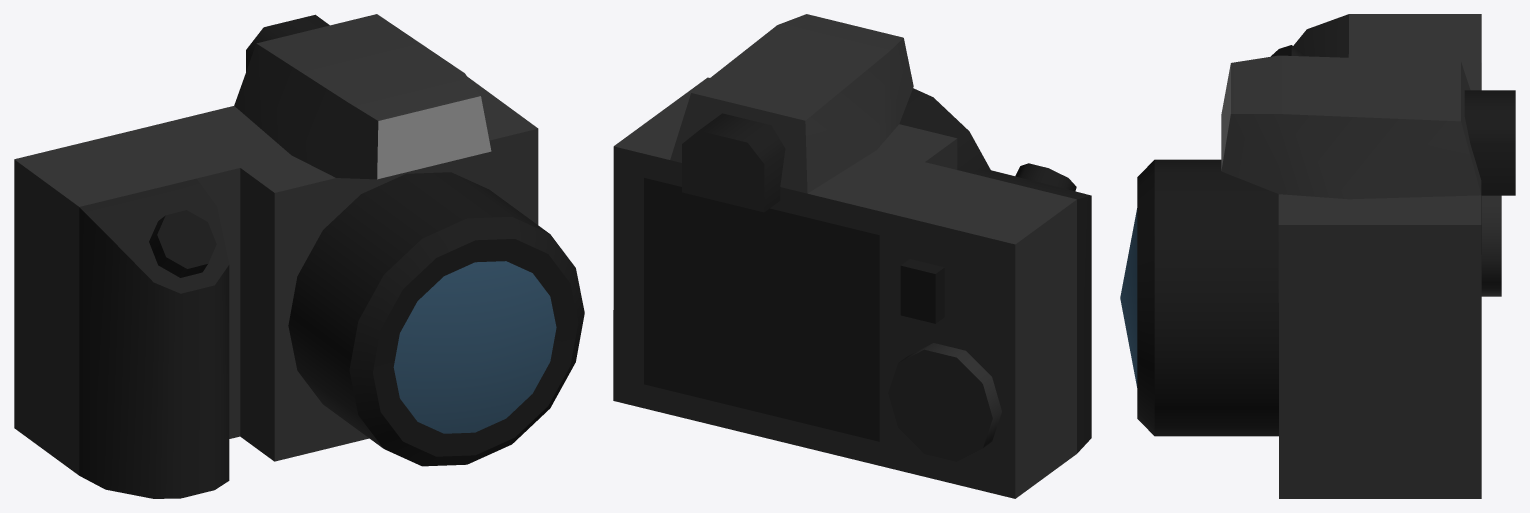
The model's file is photocamera.fbx.
3 renders of one model, left to right at view 1: azimuth 30°, elevation 25°; view 2: azimuth 150°, elevation 25°; view 3: azimuth 270°, elevation 25°, orthographic. The views are drawn at different scales.
Visible parts, largest first — view 1: photocamera; view 2: photocamera; view 3: photocamera.
Boxes of the visible parts, x1,y1,x2,y2 form: photocamera: [14, 14, 584, 498]; photocamera: [613, 14, 1091, 498]; photocamera: [1120, 14, 1515, 498].
Size of the model in its own units: 47.58 by 36.62 by 37.68.
